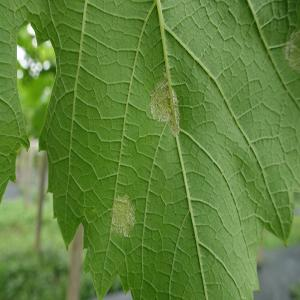Folha: (0, 0, 299, 298)
Fungo: (149, 75, 180, 137), (110, 193, 136, 237), (283, 28, 299, 74), (169, 88, 180, 138)
